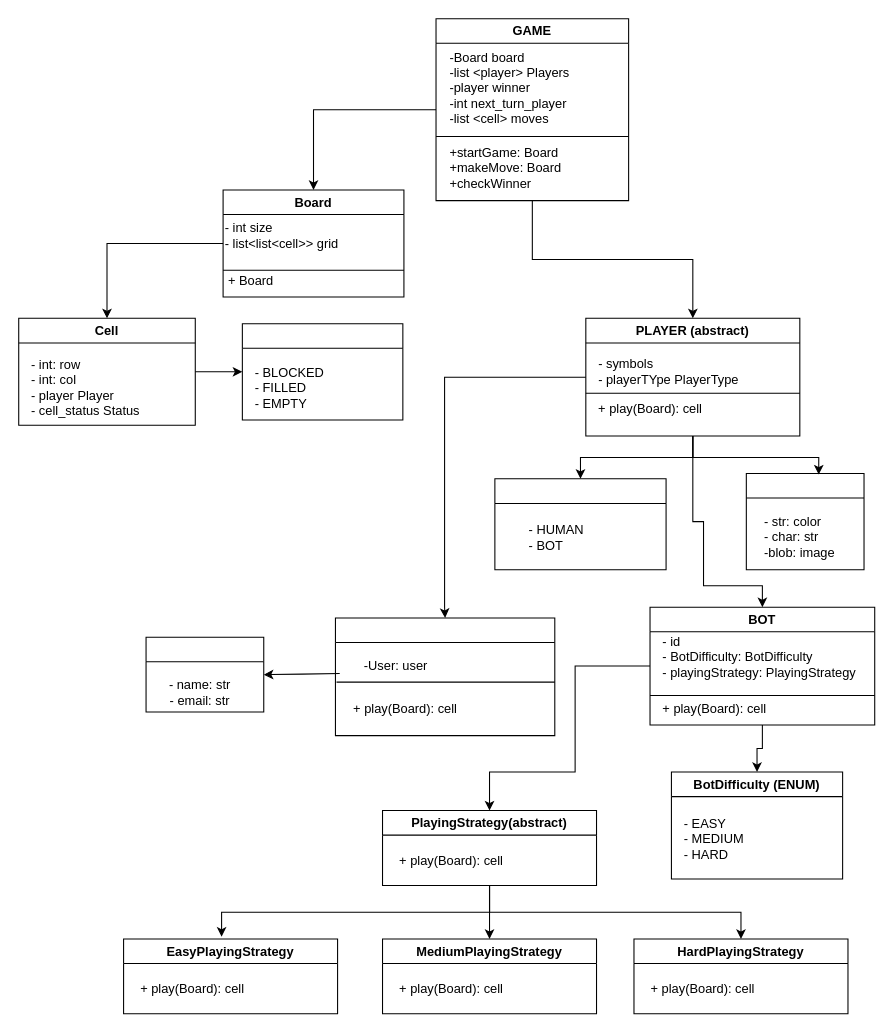
This 895x1033 diagram has some shape labels left out. The box of each missing label's shape, as (x1, y1, x2, y2) in pixels:
HUMAN: (334, 617, 555, 736)
PlayerType (ENUM): (494, 478, 666, 570)
Status (ENUM): (241, 323, 403, 420)
Symbol: (745, 472, 864, 570)
User: (145, 636, 264, 712)
